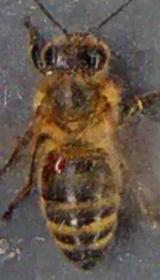varroa_mite: (44, 153, 68, 174)
